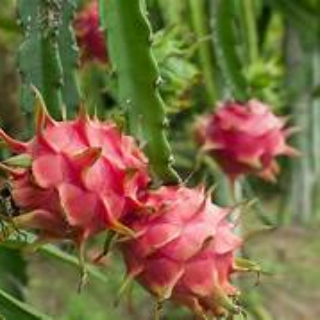thanh_long: (1, 104, 148, 254), (110, 176, 264, 318)
